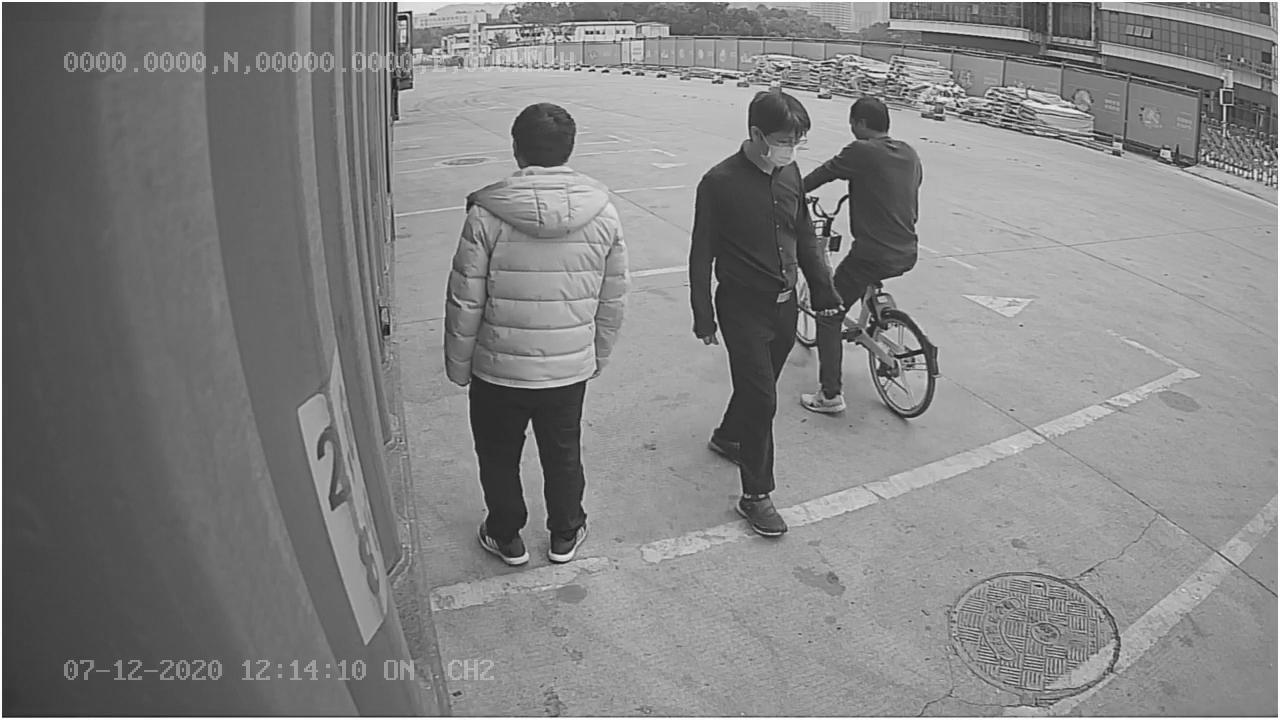person: (438, 91, 633, 566)
